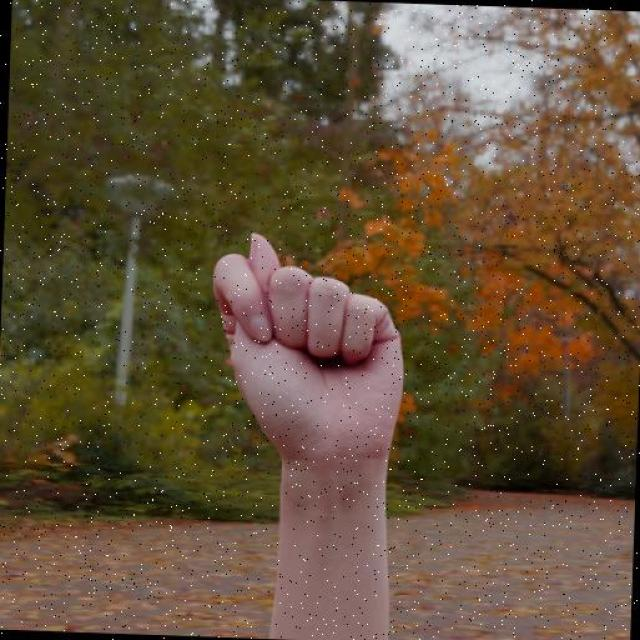T: (198, 225, 413, 470)
